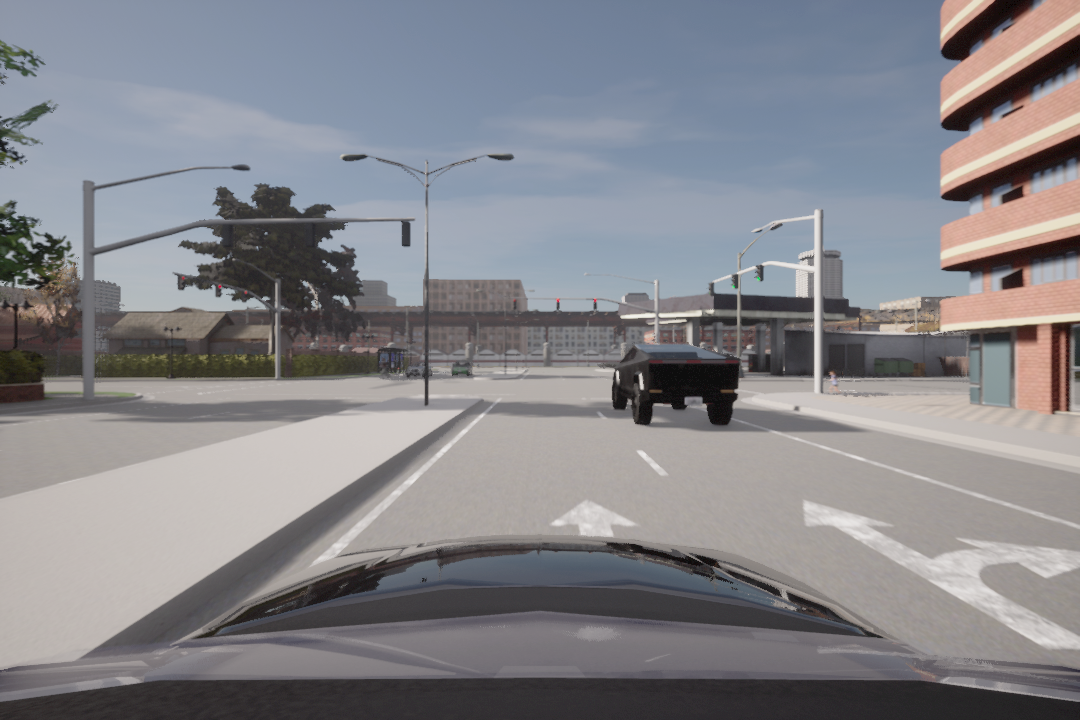RoadSign_forward_right: (794, 497, 1080, 654)
